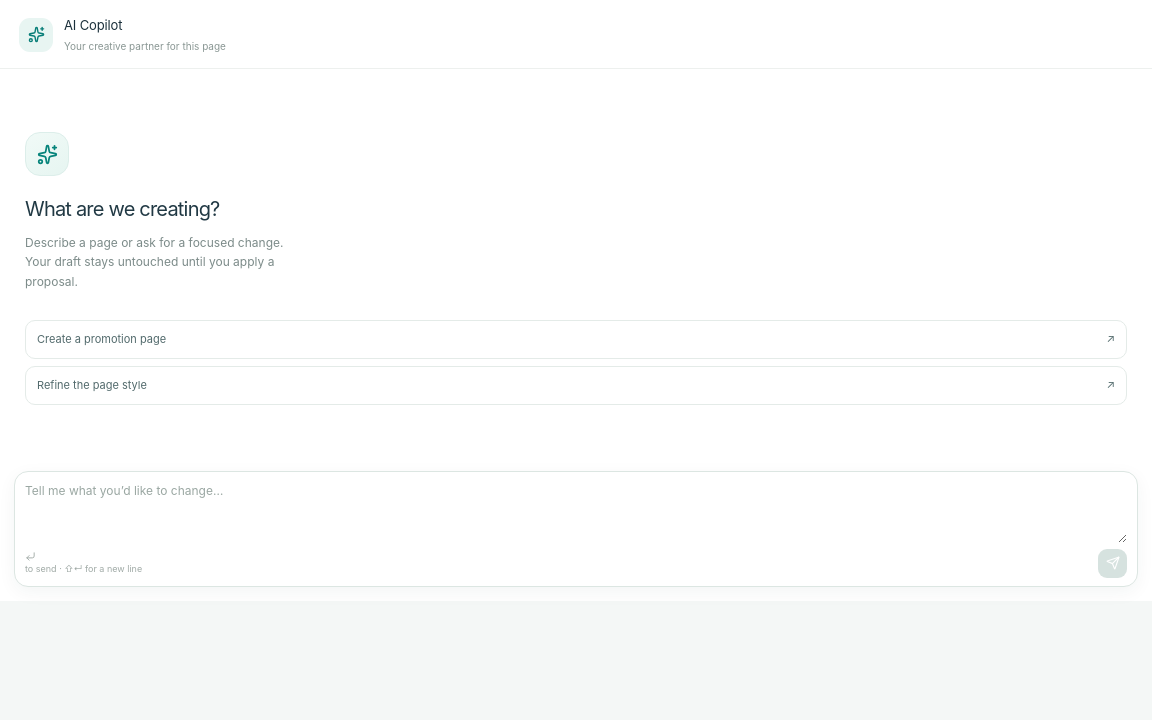
CopilotPanel › explains configuration failures in the Copilot panel
In the text box named "Describe the page or change you want": point(576, 512) left=25, top=482, right=1127, bottom=542, type "Make a page"
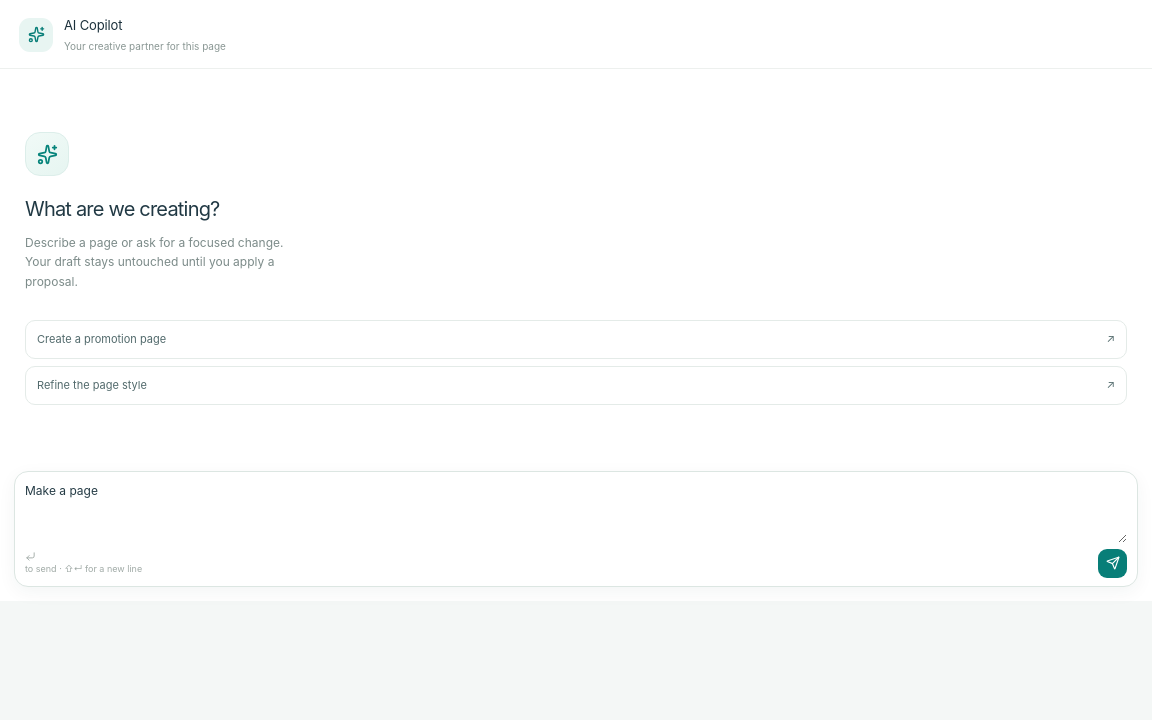
Click the button named "Send message": point(1112, 563) left=1098, top=548, right=1127, bottom=578
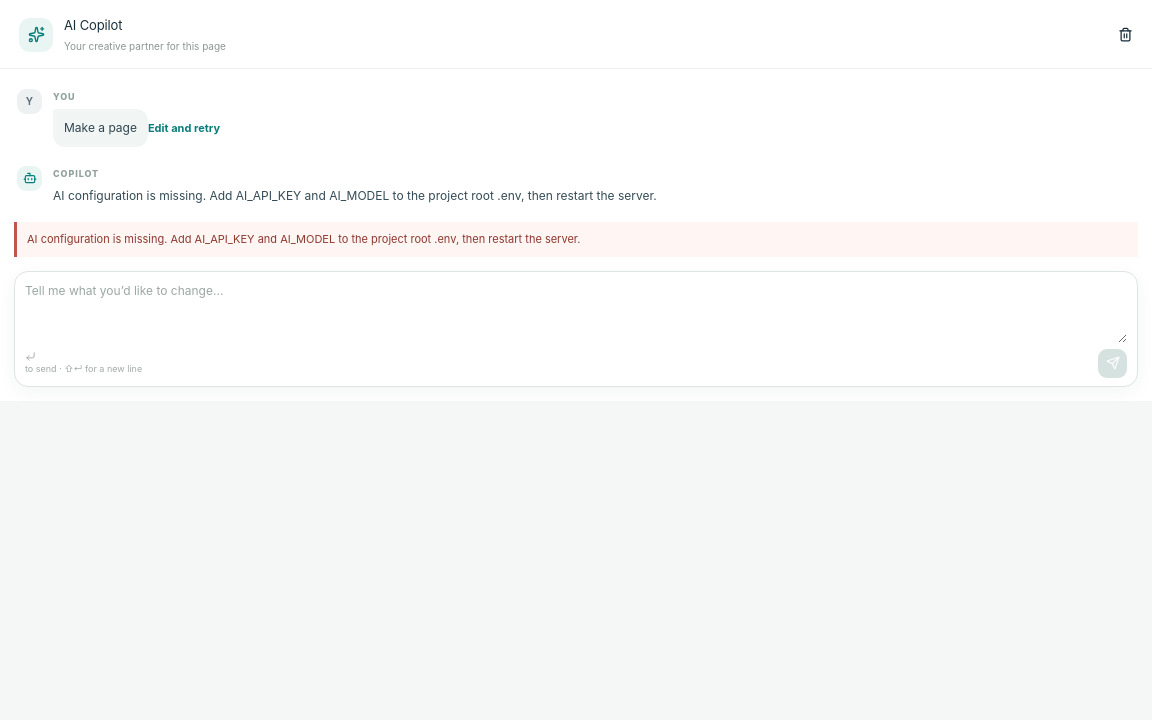
Result: the message shows "AI configuration is missing" at left=27, top=232, right=580, bottom=246
